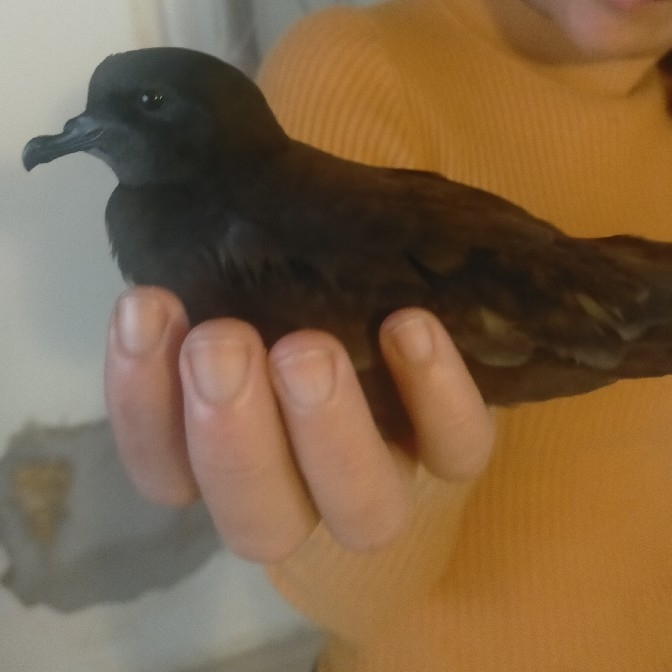Not_a_Chicken: (11, 39, 656, 421)
